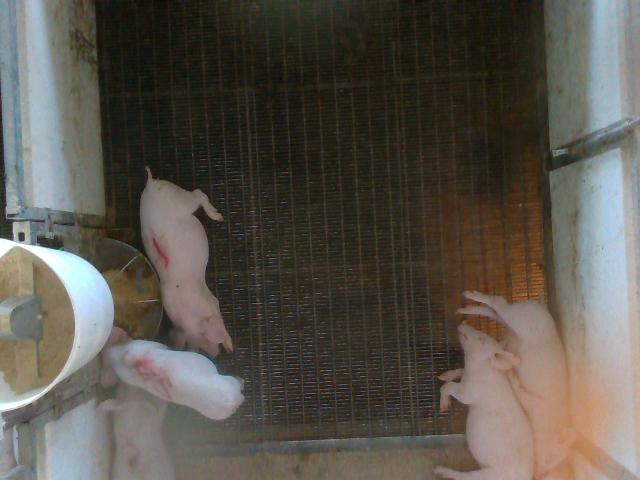pig-1: (140, 168, 232, 357)
pig-3: (101, 381, 174, 478)
pig-5: (101, 328, 244, 419)
